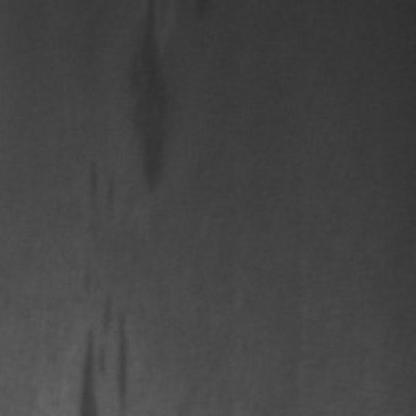inclusion: (108, 0, 179, 198), (71, 274, 135, 412)
